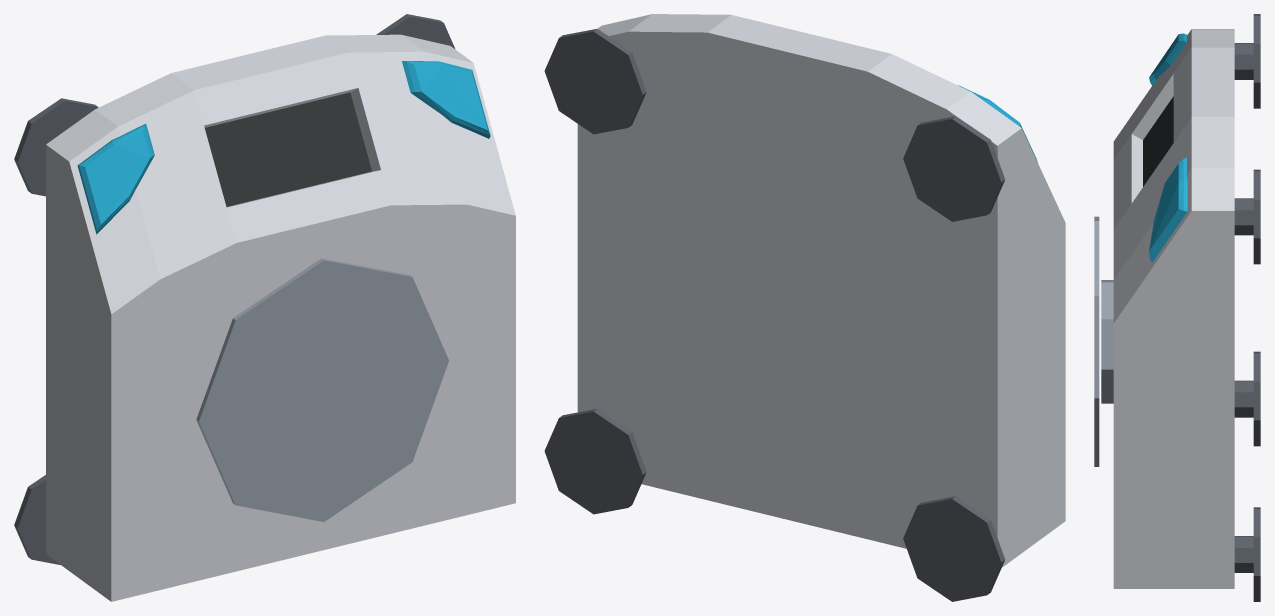
File: machine_electronic_scale.obj
The picture shows the model from 3 angles, left to right: view 1: azimuth 30°, elevation 25°; view 2: azimuth 150°, elevation 25°; view 3: azimuth 270°, elevation 25°; orthographic projection. The views are drawn at different scales.
Visible parts, largest first — view 1: Cylinder.607, Cylinder.608; view 2: Cylinder.607; view 3: Cylinder.607, Cylinder.608.
Part boxes in pixels (box(x1,y1,x2,y2)): Cylinder.607: box(14, 14, 515, 601); Cylinder.608: box(196, 258, 448, 521); Cylinder.607: box(544, 14, 1065, 601); Cylinder.607: box(1113, 14, 1260, 601); Cylinder.608: box(1094, 216, 1113, 466).
Bounding box in the file's own units: 0.2247 × 0.2328 × 0.0796.
Materials: 1 (1 with a texture image).
